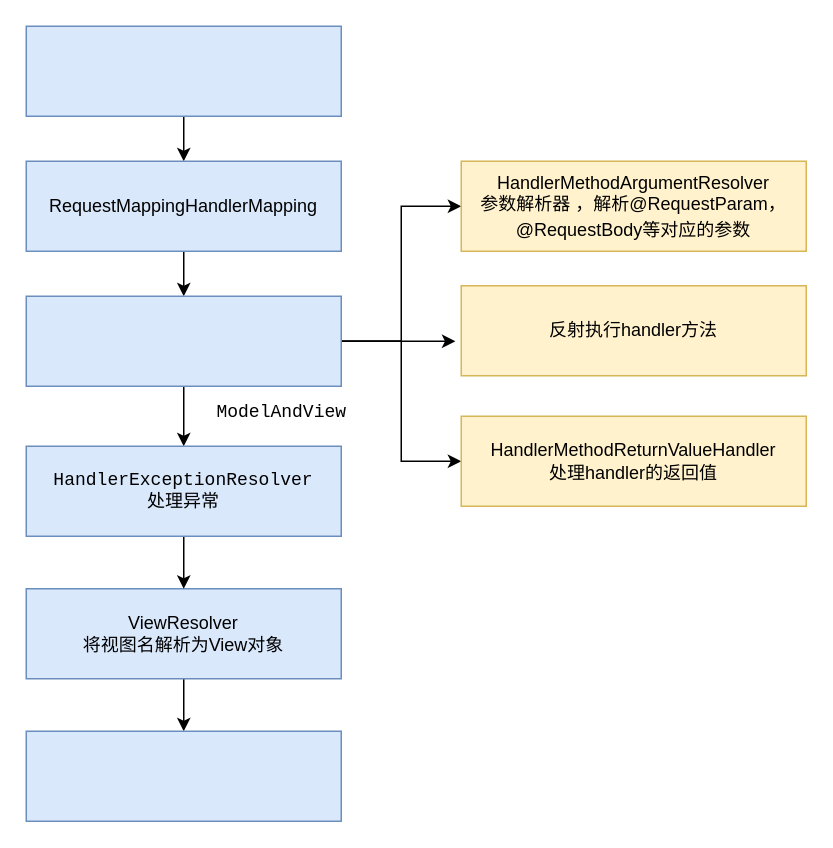
Image size: 833x848. Some labels were removed from this diagram. The centre of each missing label's shape, as x and y in pixels:
"DispatcherServlet#doDispatch" goes at (x=183, y=70).
"RequestMappingHandlerAdapter" goes at (x=183, y=340).
"View 填充模型数据后返回给用户" goes at (x=183, y=775).
